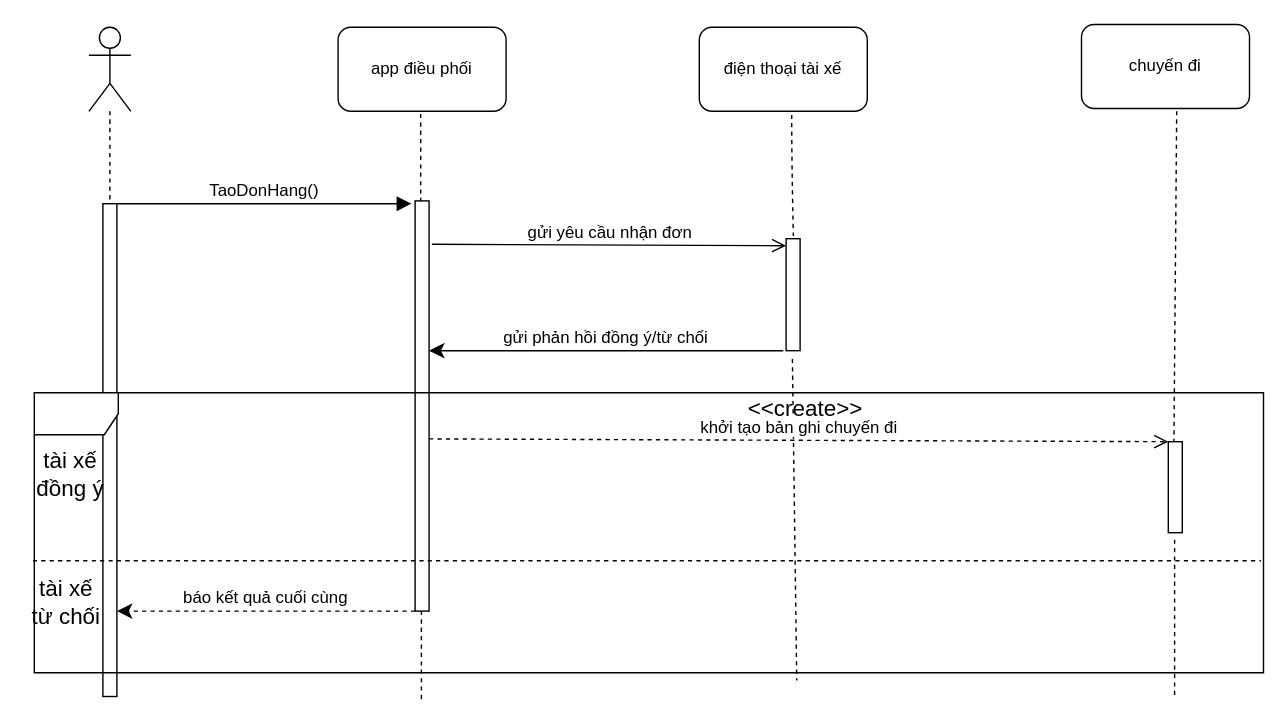
Image size: 1288x727. Some labels were removed from this diagram. Each missing label, with the box of its shape:
alt: (33, 391, 1264, 673)
khách hàng: (88, 26, 131, 111)
